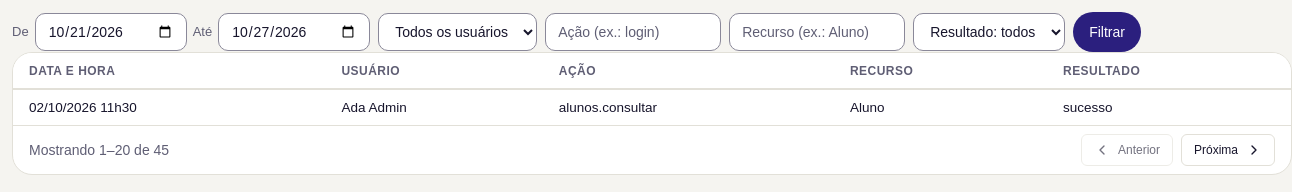
Test: AuditoriaTab › Auditoria_filtra_e_pagina
Expected: the text "Mostrando 1–20 de 45" is shown, [29,140,169,160]
Click the button "Próxima" at (1228, 150), box [1181,134,1275,166]
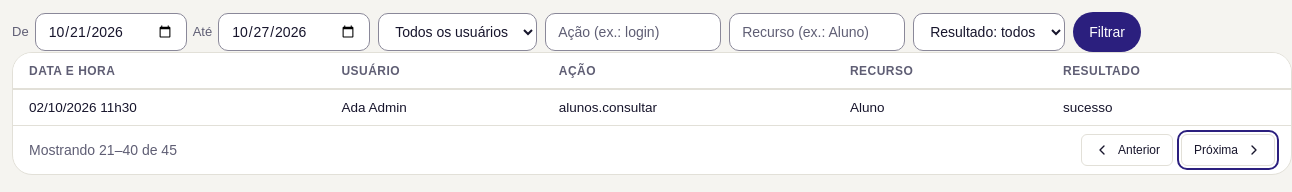
Now the text "Mostrando 21–40 de 45" is shown, box [29,140,177,160]
Select "Ada Admin" in the 1st dropdown named "Usuário" at (458, 32), box [378,13,537,51]
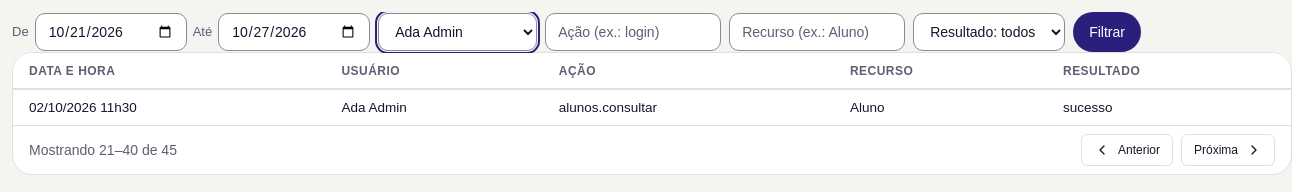
Type "login" into the search field labelled "Ação" at (633, 32), box [545,13,721,51]
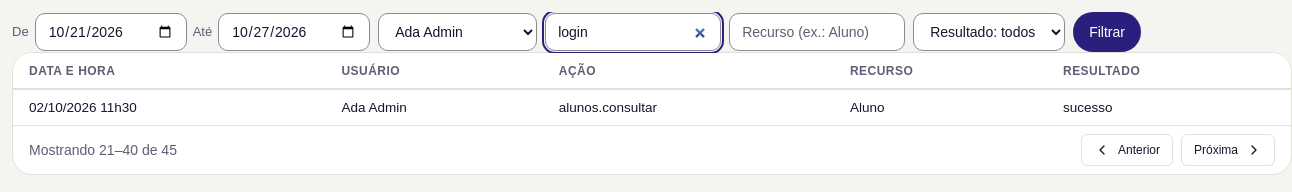
Select "Negado" in the 2nd dropdown named "Resultado" at (989, 32), box [913,13,1065,51]
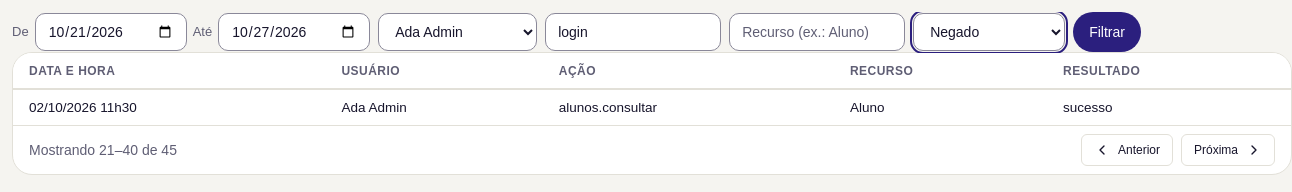
Click the button "Filtrar" at (1107, 32), box [1073,12,1141,52]
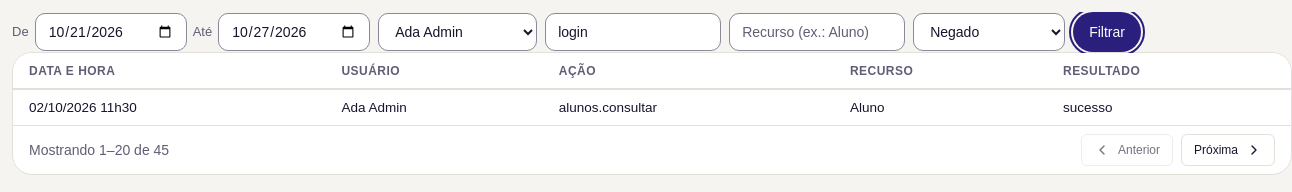
Now the text "Mostrando 1–20 de 45" is shown, box [29,140,169,160]
